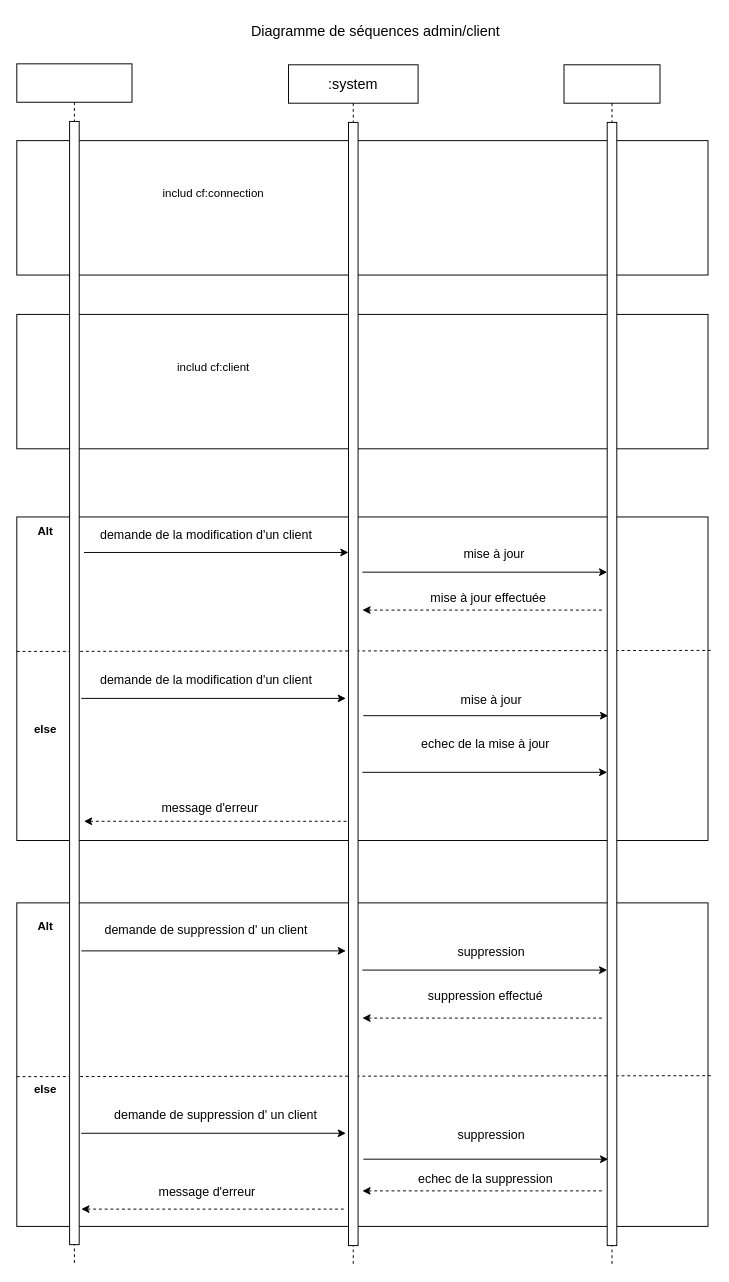
This 729x1282 diagram has some shape labels left out. The box of each missing label's shape, as (x1, y1, x2, y2) in pixels:
:Bdd: (563, 64, 660, 1265)
:client: (16, 63, 132, 1265)
